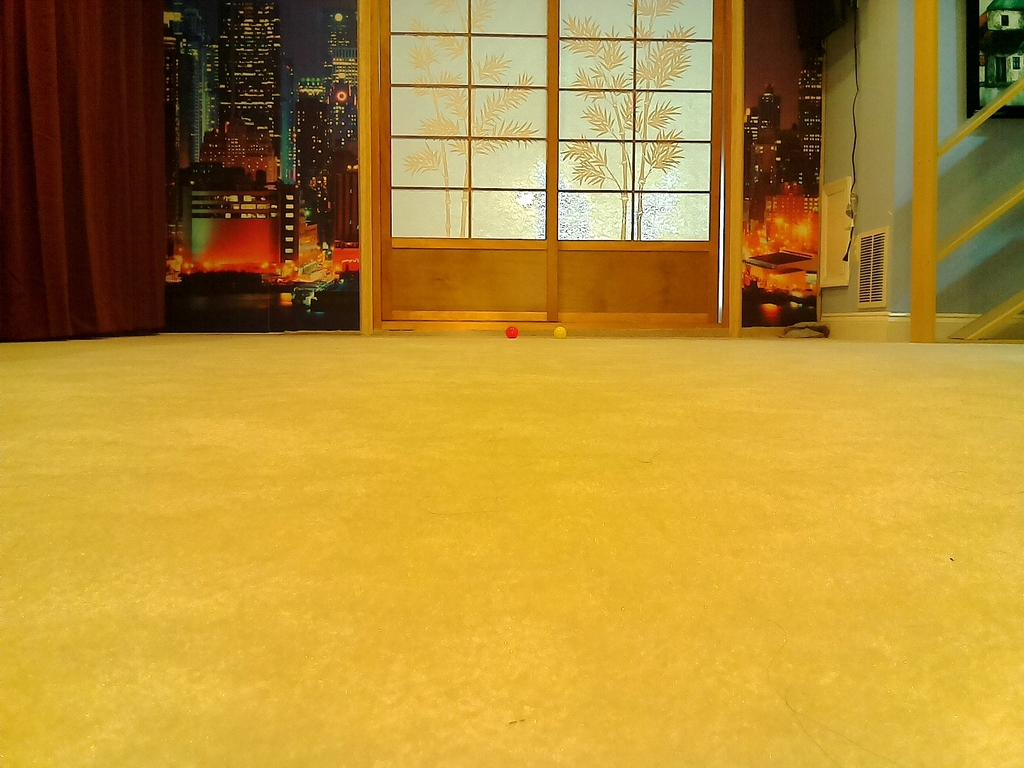ball: (504, 326, 517, 339)
